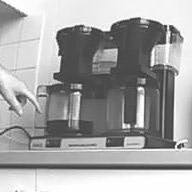empty coffee: (105, 74, 164, 139)
not empty coffee: (31, 78, 100, 137)
